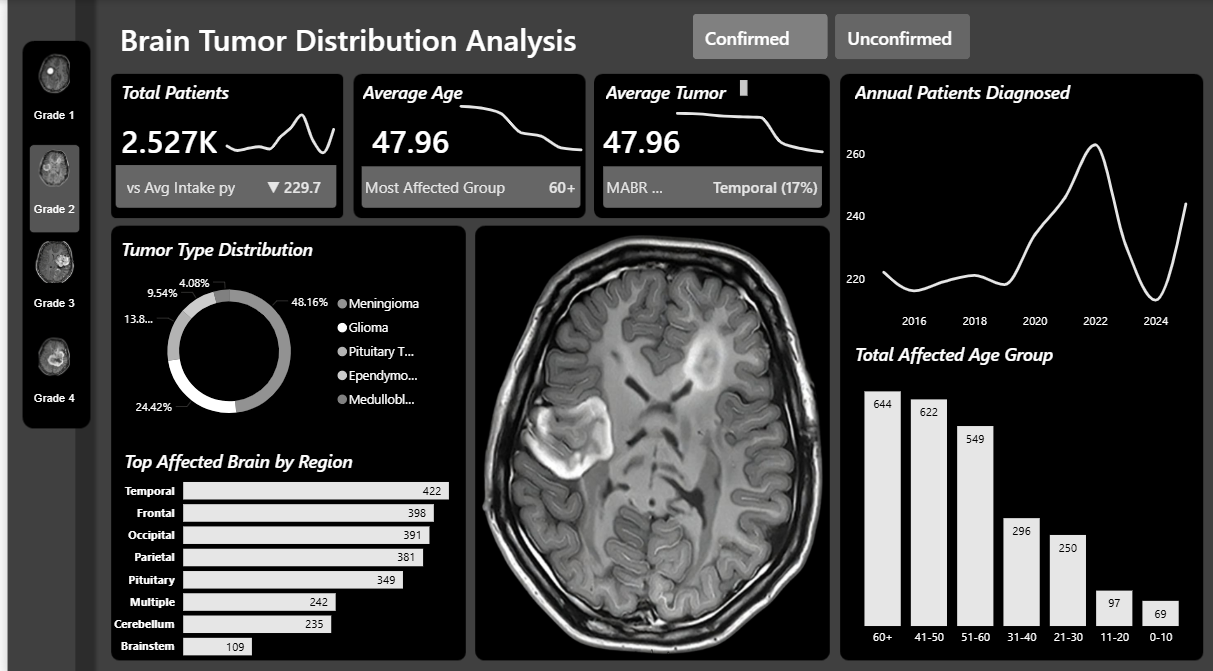

What the dashboard file says about the page in this screenshot:
{"tool":"powerbi","page":{"name":"Page 1","canvas":[1280,720],"ordinal":0},"visuals":[{"type":"cardVisual","fields":{"Data":["CountNonNull(Brain Tumor Data.Patient ID)"]},"box":[92.3,100.2,187.7,95.4],"z":0},{"type":"lineChart","fields":{"Category":["Brain Tumor Data.Date of Diagnosis.Variation.Date Hierarchy.Year"],"Y":["CountNonNull(Brain Tumor Data.Patient ID)"]},"box":[217.9,93.8,143.2,84.3],"z":1000},{"type":"cardVisual","fields":{"Data":["CountNonNull(Brain Tumor Data.Patient ID)"]},"box":[85.9,76.3,292.7,173.4],"z":2000},{"type":"textbox","box":[116,79.5,160.7,36.6],"z":3000},{"type":"cardVisual","fields":{"Data":["Avg(Brain Tumor Data.Age)"]},"box":[357.9,100.2,187.7,95.4],"z":4000},{"type":"lineChart","fields":{"Y":["CountNonNull(Brain Tumor Data.Patient ID)"],"Category":["Brain Tumor Data.Age Group"]},"box":[467.6,85.9,154.3,84.3],"z":5000},{"type":"cardVisual","fields":{"Data":["CountNonNull(Brain Tumor Data.Patient ID)"]},"box":[346.8,76.3,292.7,173.4],"z":6000},{"type":"textbox","box":[372.2,79.5,160.7,36.6],"z":7000},{"type":"cardVisual","fields":{"Data":["Avg(Brain Tumor Data.Age)"]},"box":[602.8,100.2,187.7,95.4],"z":8000},{"type":"lineChart","fields":{"Category":["Brain Tumor Data.Affected Brain Region"],"Y":["Sum(Brain Tumor Data.Tumor Size (cm))"]},"box":[696.7,98.6,181.3,90.7],"z":9000},{"type":"textbox","box":[629.9,79.5,160.7,36.6],"z":10000},{"type":"cardVisual","fields":{"Data":["CountNonNull(Brain Tumor Data.Patient ID)"]},"box":[602.8,76.3,292.7,173.4],"z":11000},{"type":"advancedSlicerVisual","fields":{"Values":["Brain Tumor Data.Histology Confirmation"]},"box":[722.1,9.5,305.4,58.9],"z":12000},{"type":"ChicletSlicer1448559807354","fields":{"Image":["Tumor Images.Column2"],"Category":["Tumor Images.Column1"]},"box":[14.3,44.5,82.7,418.3],"z":13000},{"type":"imageDB603108E3FF4EBFB8047F5653368E8C","fields":{"imageUrl":["Tumor Images.Column2"]},"box":[475.6,216.3,419.9,504.2],"z":14000},{"type":"donutChart","fields":{"Category":["Brain Tumor Data.Tumor Type"],"Y":["CountNonNull(Brain Tumor Data.Patient ID)"]},"box":[116.1,273.6,337.2,197.2],"z":15000},{"type":"textbox","box":[116.1,246.5,238.6,35],"z":16000},{"type":"clusteredBarChart","fields":{"Category":["Brain Tumor Data.Affected Brain Region"],"Y":["CountNonNull(Brain Tumor Data.Patient ID)"]},"box":[106.6,488.3,396.1,221.1],"z":17000},{"type":"textbox","box":[119.3,470.8,275.2,35],"z":18000},{"type":"lineChart","fields":{"Category":["Brain Tumor Data.Date of Diagnosis.Variation.Date Hierarchy.Year"],"Y":["CountNonNull(Brain Tumor Data.Patient ID)"]},"box":[884.4,116.1,383.3,241.8],"z":19000},{"type":"textbox","box":[893.9,79.5,276.8,36.6],"z":20000},{"type":"clusteredColumnChart","fields":{"Category":["Brain Tumor Data.Age Group"],"Y":["CountNonNull(Brain Tumor Data.Patient ID)"]},"box":[884.4,377,383.3,316.5],"z":21000},{"type":"textbox","box":[893.9,357.9,221.1,36.6],"z":22000},{"type":"textbox","box":[114.5,14.3,604.4,62],"z":22001}]}

Visuals, with their boxes in screenshot pixels (x1, y1, x2, y2), scaled from the page's 1280x720 canvas onto the 1213x671 screenshot:
cardVisual - CountNonNull(Brain Tumor Data.Patient ID): (left=87, top=93, right=265, bottom=182)
lineChart - Brain Tumor Data.Date of Diagnosis.Variation.Date Hierarchy.Year x CountNonNull(Brain Tumor Data.Patient ID): (left=206, top=87, right=342, bottom=166)
cardVisual - CountNonNull(Brain Tumor Data.Patient ID): (left=81, top=71, right=359, bottom=233)
textbox: (left=110, top=74, right=262, bottom=108)
cardVisual - Avg(Brain Tumor Data.Age): (left=339, top=93, right=517, bottom=182)
lineChart - CountNonNull(Brain Tumor Data.Patient ID) x Brain Tumor Data.Age Group: (left=443, top=80, right=589, bottom=159)
cardVisual - CountNonNull(Brain Tumor Data.Patient ID): (left=329, top=71, right=606, bottom=233)
textbox: (left=353, top=74, right=505, bottom=108)
cardVisual - Avg(Brain Tumor Data.Age): (left=571, top=93, right=749, bottom=182)
lineChart - Brain Tumor Data.Affected Brain Region x Sum(Brain Tumor Data.Tumor Size (cm)): (left=660, top=92, right=832, bottom=176)
textbox: (left=597, top=74, right=749, bottom=108)
cardVisual - CountNonNull(Brain Tumor Data.Patient ID): (left=571, top=71, right=849, bottom=233)
advancedSlicerVisual - Brain Tumor Data.Histology Confirmation: (left=684, top=9, right=974, bottom=64)
ChicletSlicer1448559807354 - Tumor Images.Column2 x Tumor Images.Column1: (left=14, top=41, right=92, bottom=431)
imageDB603108E3FF4EBFB8047F5653368E8C - Tumor Images.Column2: (left=451, top=202, right=849, bottom=670)
donutChart - Brain Tumor Data.Tumor Type x CountNonNull(Brain Tumor Data.Patient ID): (left=110, top=255, right=430, bottom=439)
textbox: (left=110, top=230, right=336, bottom=262)
clusteredBarChart - Brain Tumor Data.Affected Brain Region x CountNonNull(Brain Tumor Data.Patient ID): (left=101, top=455, right=476, bottom=661)
textbox: (left=113, top=439, right=374, bottom=471)
lineChart - Brain Tumor Data.Date of Diagnosis.Variation.Date Hierarchy.Year x CountNonNull(Brain Tumor Data.Patient ID): (left=838, top=108, right=1201, bottom=334)
textbox: (left=847, top=74, right=1109, bottom=108)
clusteredColumnChart - Brain Tumor Data.Age Group x CountNonNull(Brain Tumor Data.Patient ID): (left=838, top=351, right=1201, bottom=646)
textbox: (left=847, top=334, right=1057, bottom=368)
textbox: (left=109, top=13, right=681, bottom=71)
